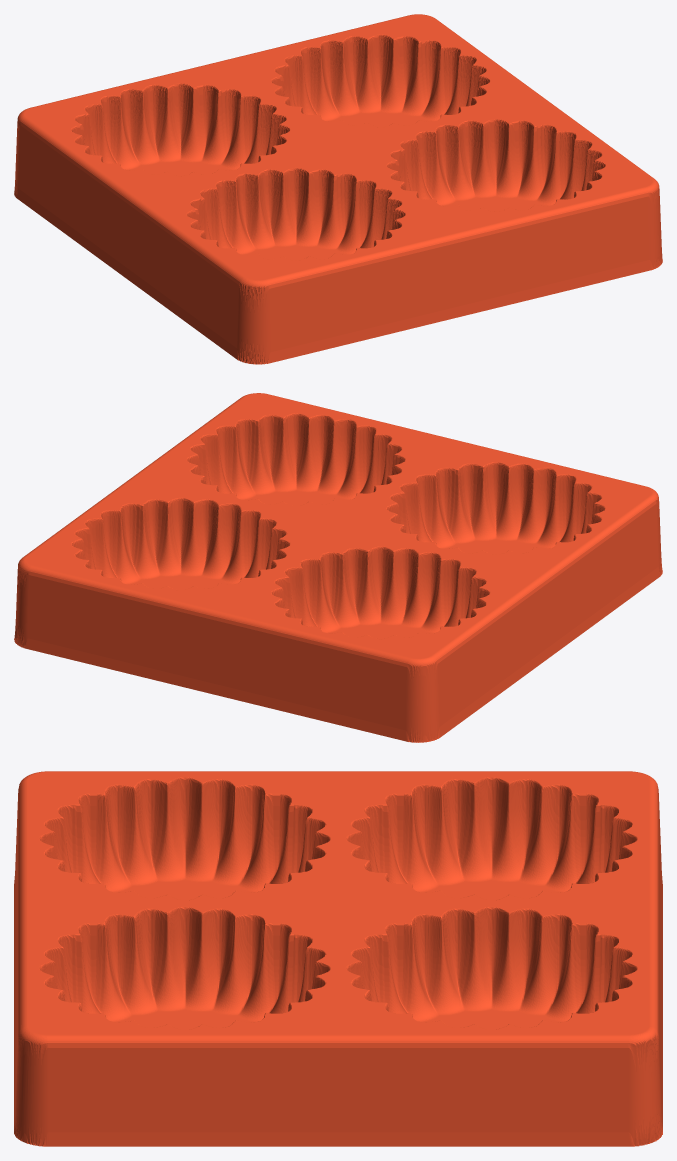
Rendered from mold.glb.
3 views of the same model, one above another, from view 1: azimuth 30°, elevation 25°; view 2: azimuth 150°, elevation 25°; view 3: azimuth 270°, elevation 25° (orthographic). The views are drawn at different scales.
Parts seen in each view (by area): view 1: geometry_0; view 2: geometry_0; view 3: geometry_0.
Boxes of the visible parts, box(x1,y1,x2,y2) form: geometry_0: box(14, 14, 662, 364); geometry_0: box(14, 393, 662, 742); geometry_0: box(14, 771, 662, 1146).
Bounding box in the file's own units: 0.1721 × 0.031 × 0.1721.
